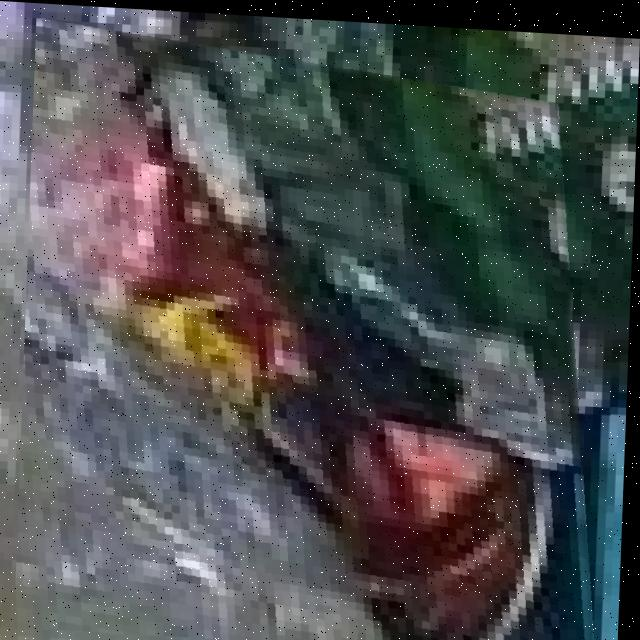litter: (29, 22, 599, 640)
